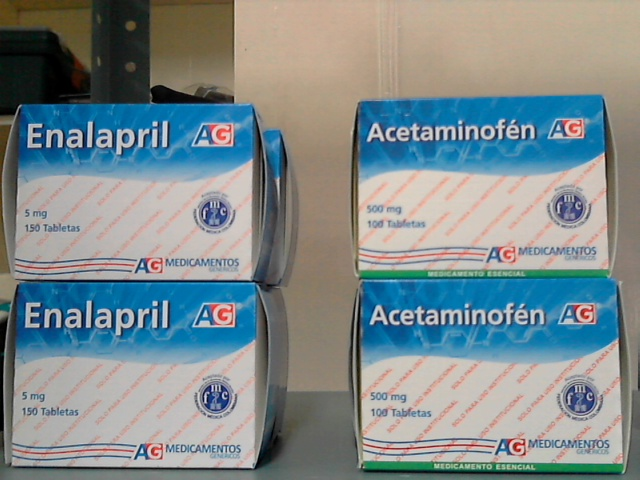AG: (363, 281, 622, 472), (360, 100, 611, 278), (16, 283, 252, 467), (20, 104, 254, 281)
